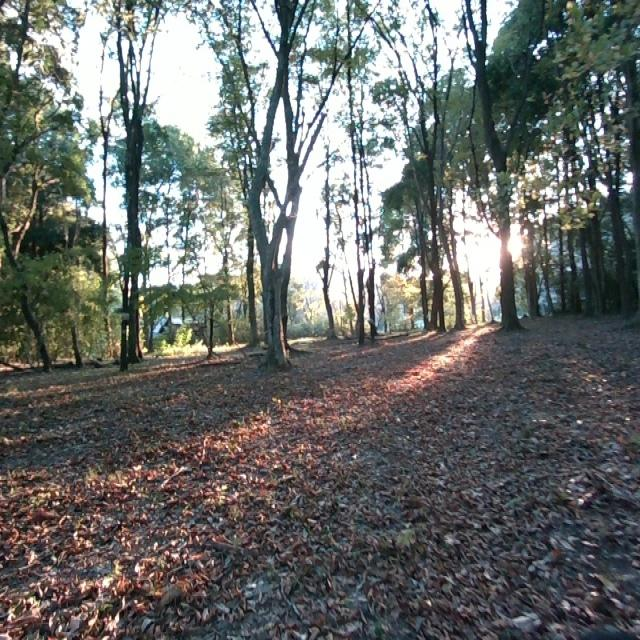tree: (231, 0, 302, 363), (0, 0, 58, 368), (465, 0, 526, 336), (109, 0, 154, 368), (417, 0, 463, 332), (352, 0, 377, 341)
